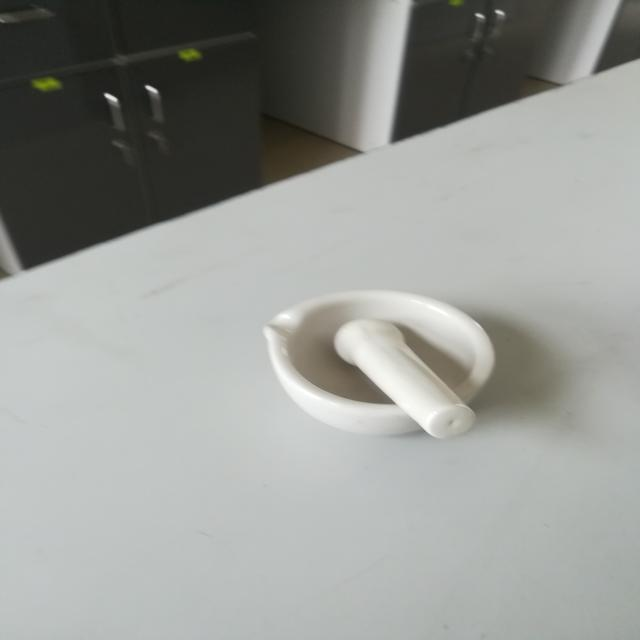Porcelain_Mortar Pestle: (200, 272, 540, 483)
